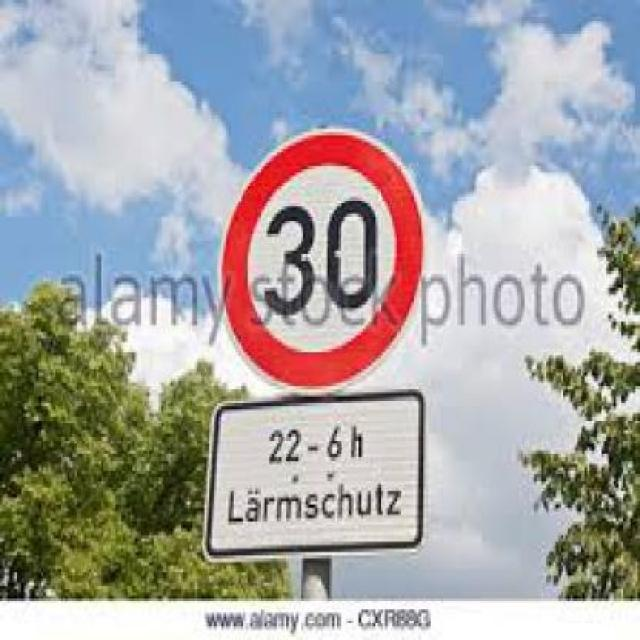forb_speed_over_30: (223, 132, 431, 390)
